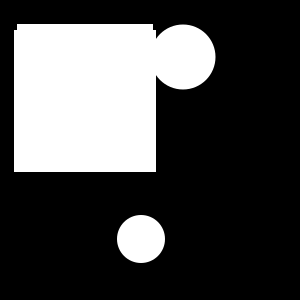circle: (14, 30, 156, 172), (17, 24, 153, 160)
rectangle: (150, 24, 215, 90), (117, 215, 165, 263)
